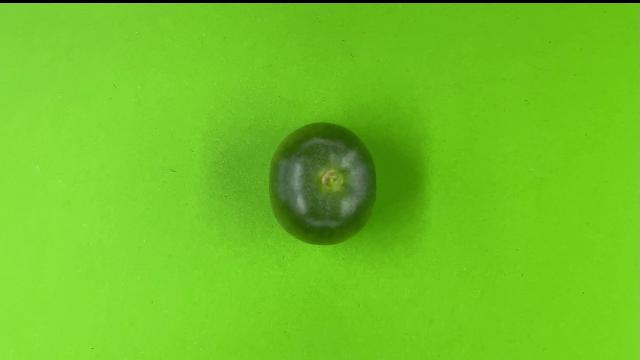Fruit Maturation: (267, 122, 378, 246)
